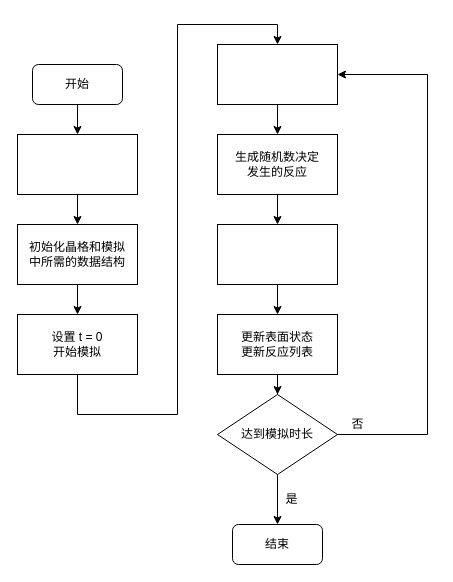
The diagram is 453 pixels wide and 582 high, and some of its shapes have lost their labels. The centre of each missing label's shape, as x and y in pixels:
从反应列表中 随机选一个发生: point 277,254
计算每种反应的 速率常数: point 277,74
读取基元反应的 活化能和指前影子: point 77,164
